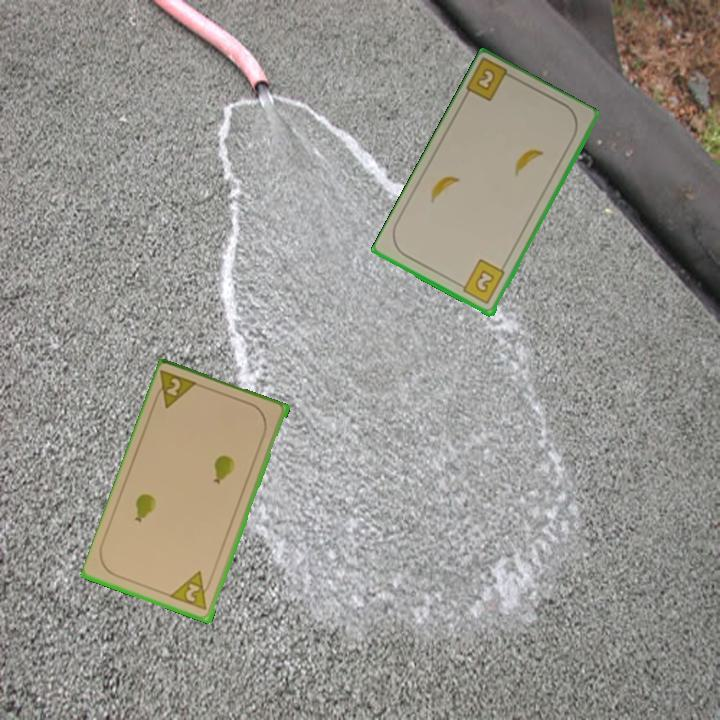2b: (455, 256, 508, 307), (463, 57, 519, 105)
2p: (150, 367, 202, 412), (168, 568, 215, 613)
